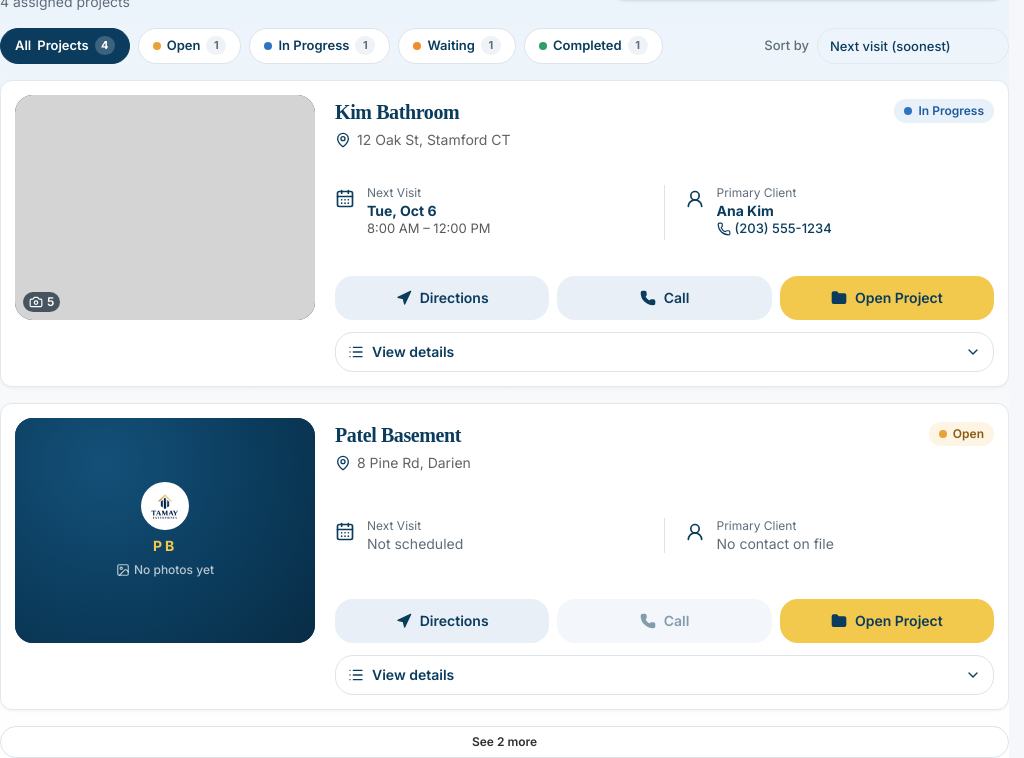
Scenario: My Projects (employee) › no photo: branded fallback, no count; missing address / phone disable those actions
This screenshot has width=1024, height=758.
(page scrolled)
Click the button "See 2 more": (504, 742) [0,726,1009,757]
(page scrolled)
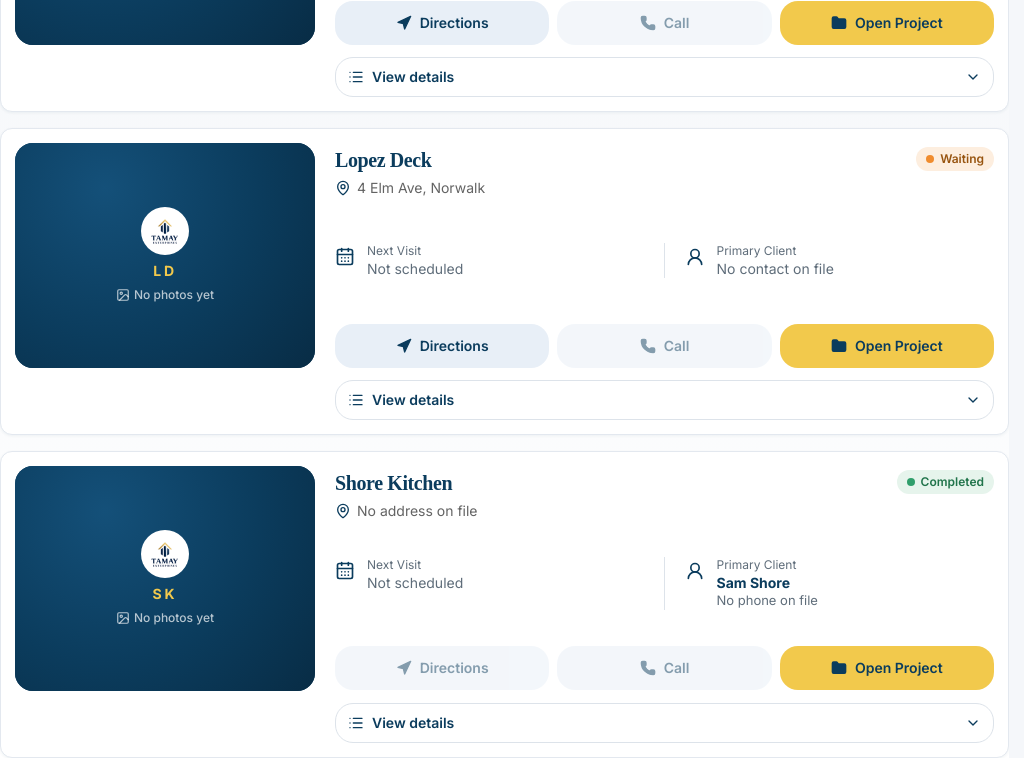
Expected: the text "LD" is shown, [153,261,177,281]
Expected: the text "No photos yet" below "LD" is shown, [134,287,214,302]
Expected: the text "No contact on file" is shown, [716,259,834,278]
